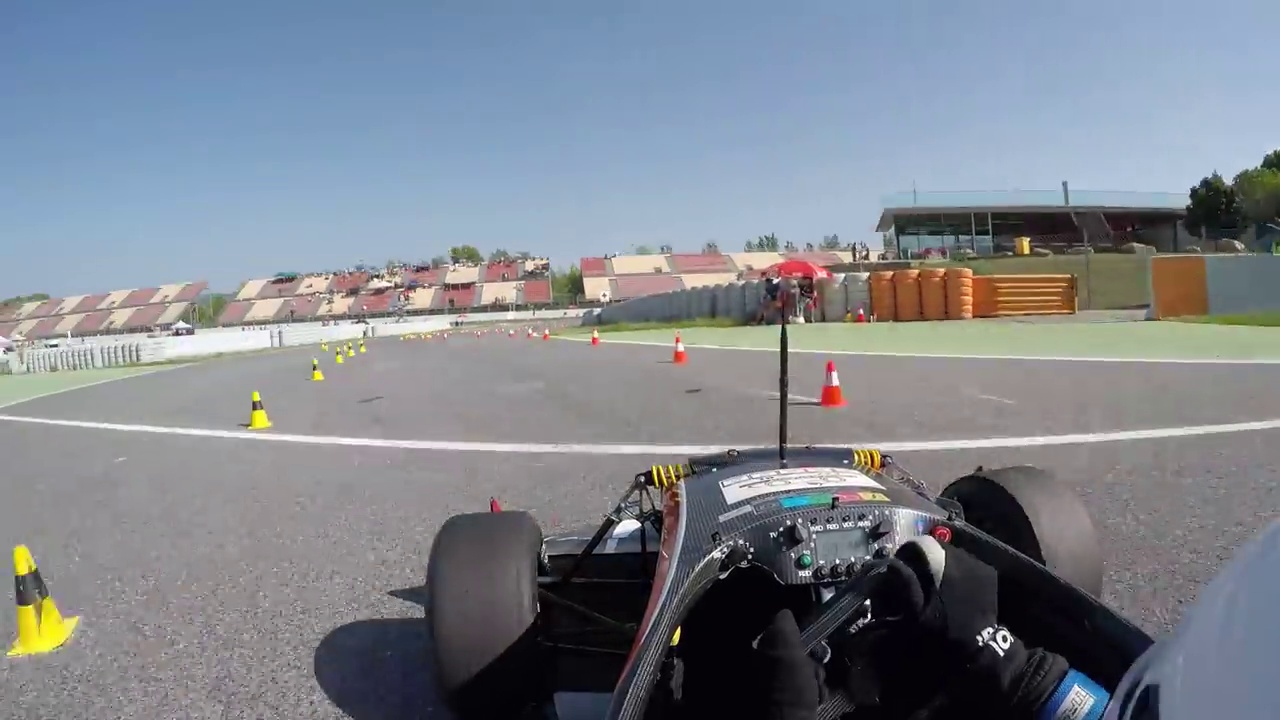Cone: (6, 541, 80, 656), (816, 361, 847, 411), (245, 388, 275, 431)
